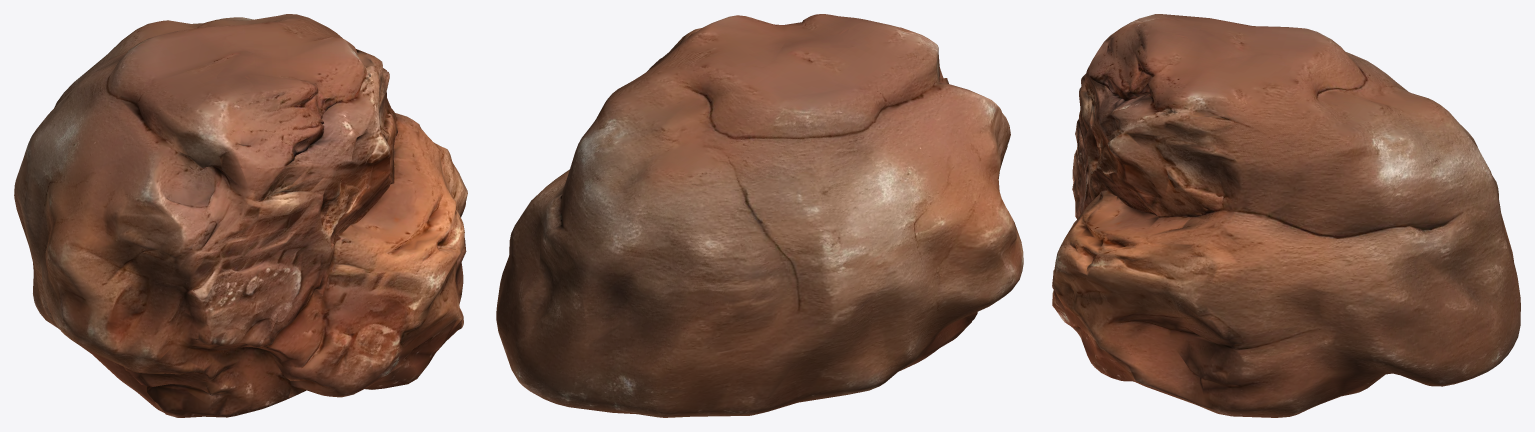
File: rock_desert.glb
3 renders of one model, left to right at view 1: azimuth 30°, elevation 25°; view 2: azimuth 150°, elevation 25°; view 3: azimuth 270°, elevation 25°, orthographic. The views are drawn at different scales.
Visible parts, largest first — view 1: node_0; view 2: node_0; view 3: node_0.
Boxes of the visible parts, x1,y1,x2,y2 form: node_0: (14,14,467,417); node_0: (496,14,1023,417); node_0: (1052,14,1520,417).
Bounding box in the file's own units: 0.9985 × 0.6872 × 1.01.
1 material, 1 textured.
